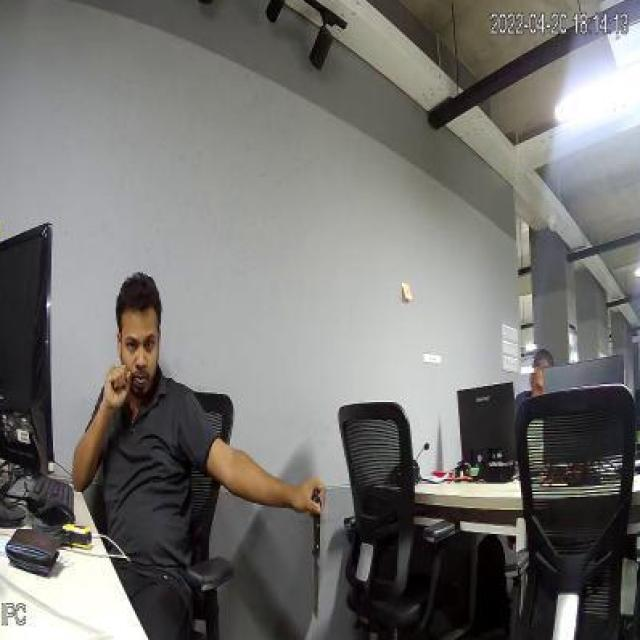Knife: (300, 467, 332, 621)
